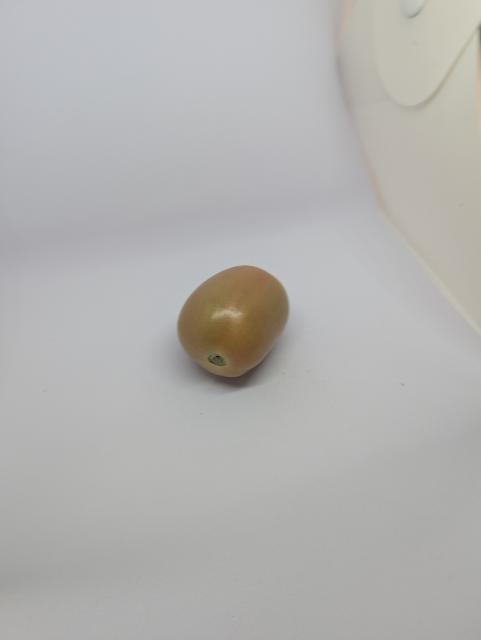turning: (174, 258, 298, 388)
